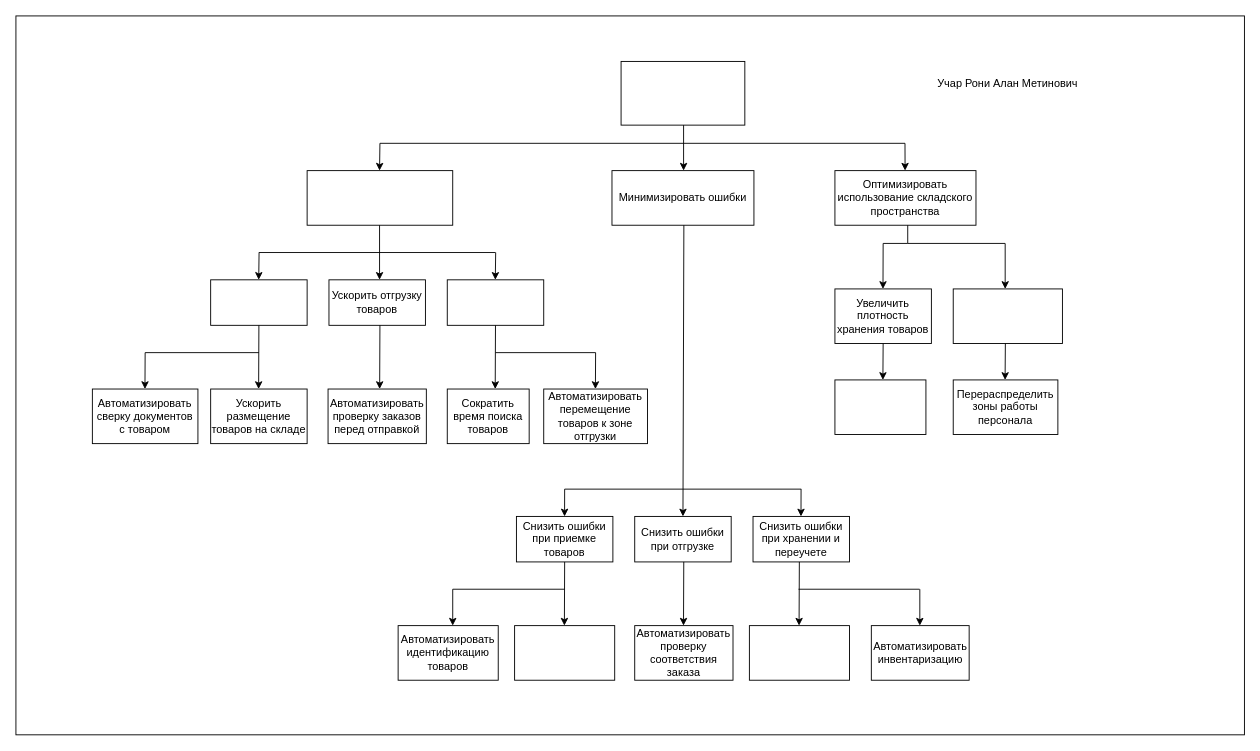
Some shapes in this 1260 by 751 pixel diagram are drawn without their labels. Here are the shapes that lost their labels. From the top down, the centre of each, then its label:
(682,93): Повысить эффективность складской деятельности
(379,197): Сократить время обработки заказов
(258,302): Ускорить приемку товаров
(495,302): Оптимизировать комплектацию заказов
(1007,316): Сократить площади, занимаемые персоналом
(880,407): Использовать роботов для работы в узких проходах
(564,652): Исключить человеческий фактор при сверке
(798,652): Обеспечить точный учет местоположения товаров
